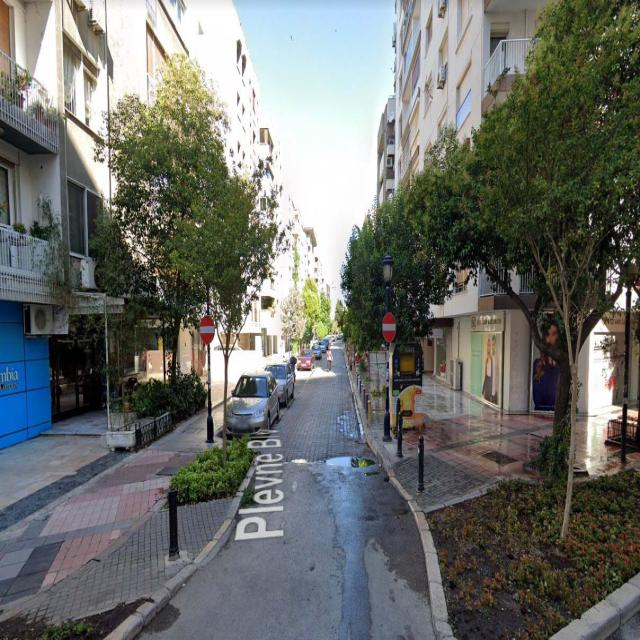girisyok: (200, 317, 215, 342), (382, 314, 395, 341)
